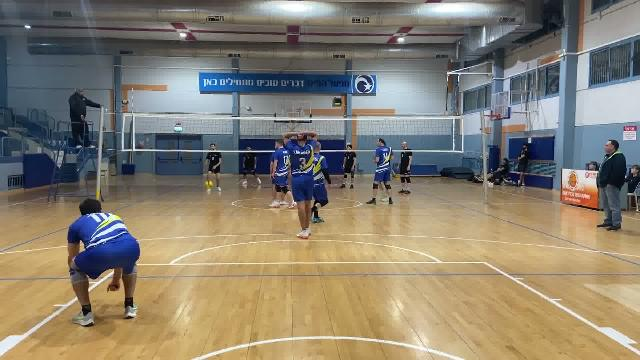ball: (203, 176, 214, 198)
